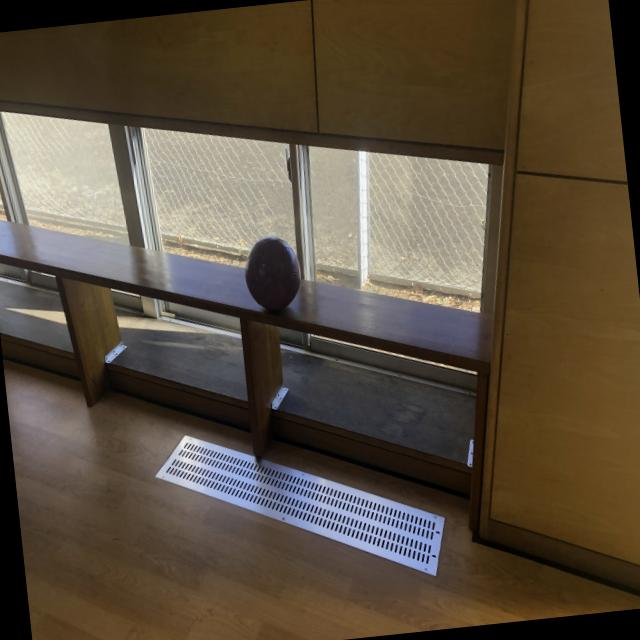purple_ball: (240, 232, 306, 314)
